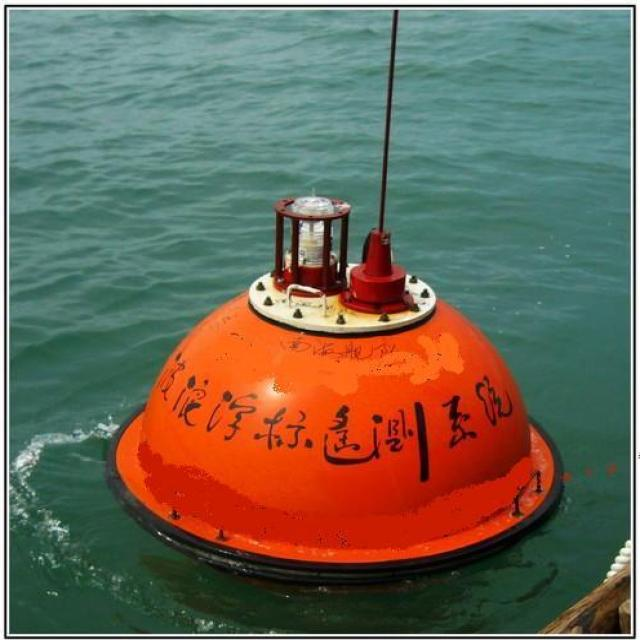buoy: (108, 148, 565, 581)
